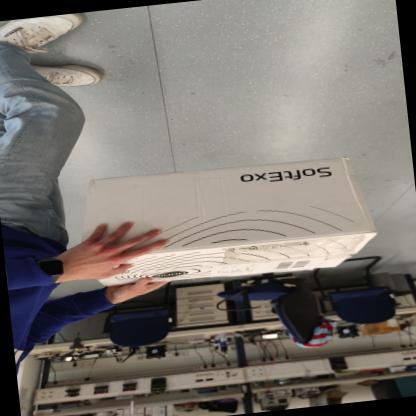box: (75, 144, 378, 308)
